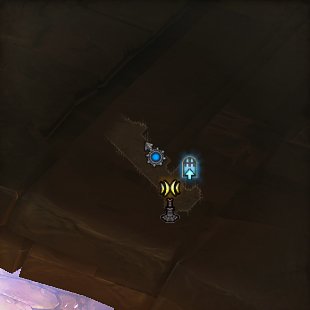ChannPylon: (158, 179, 181, 223)
